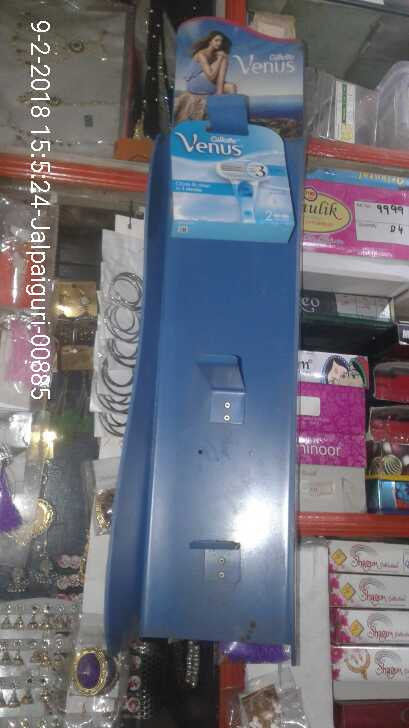venus: (169, 124, 296, 245)
